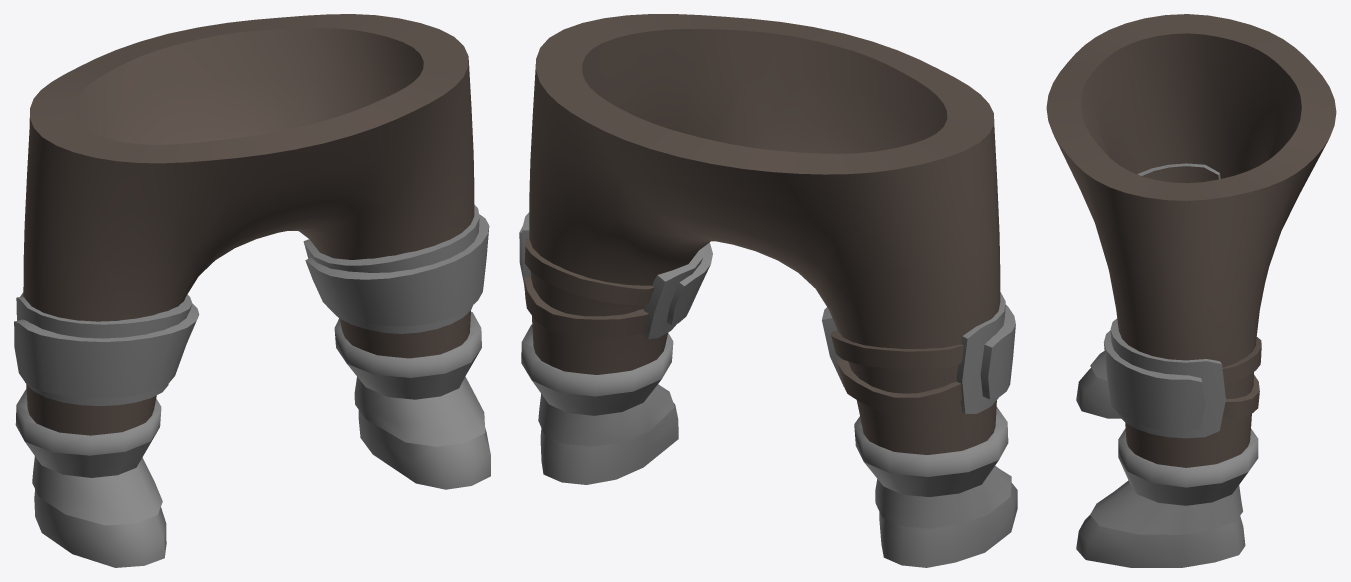
Rendered from 11骑士裤.fbx.
The picture shows the model from 3 angles, left to right: view 1: azimuth 30°, elevation 25°; view 2: azimuth 150°, elevation 25°; view 3: azimuth 270°, elevation 25°; orthographic projection. The views are drawn at different scales.
Visible parts, largest first — view 1: 11骑士裤; view 2: 11骑士裤; view 3: 11骑士裤.
Part boxes in pixels (left/top/right/bottom): 11骑士裤: left=14, top=14, right=490, bottom=567; 11骑士裤: left=519, top=14, right=1017, bottom=567; 11骑士裤: left=1046, top=14, right=1336, bottom=567.
Size of the model in its own units: 0.6494 by 0.541 by 0.3833.
